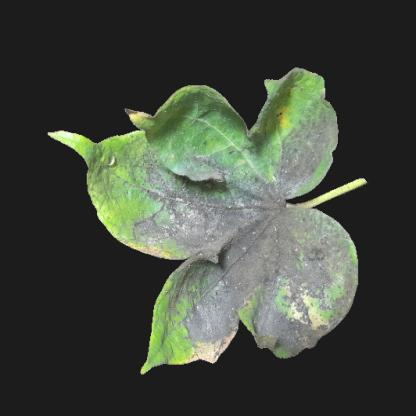curl_stage1: (106, 189, 141, 229), (295, 73, 319, 109), (275, 97, 295, 135), (165, 325, 186, 359)
healthy: (162, 117, 198, 149)
sooty: (199, 146, 335, 324), (144, 176, 200, 248), (190, 325, 232, 361), (270, 322, 308, 351), (304, 113, 338, 143)
